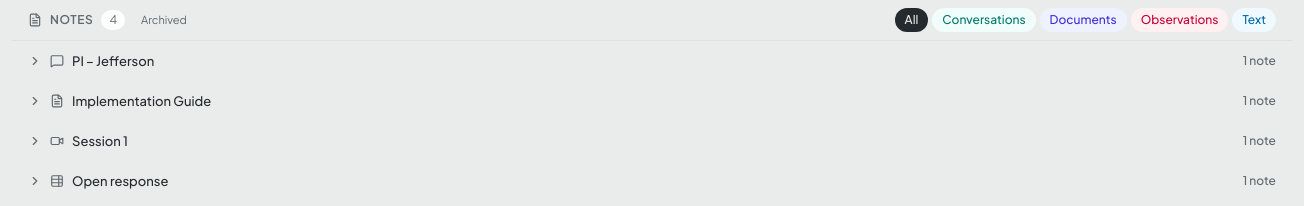
Test: offers an Observations source filter that isolates observation notes
Expected: the button "Session 1 1 note" is shown, left=12, top=121, right=1292, bottom=161
Click the button "Observations".
click(1180, 20)  # box left=1131, top=8, right=1228, bottom=32
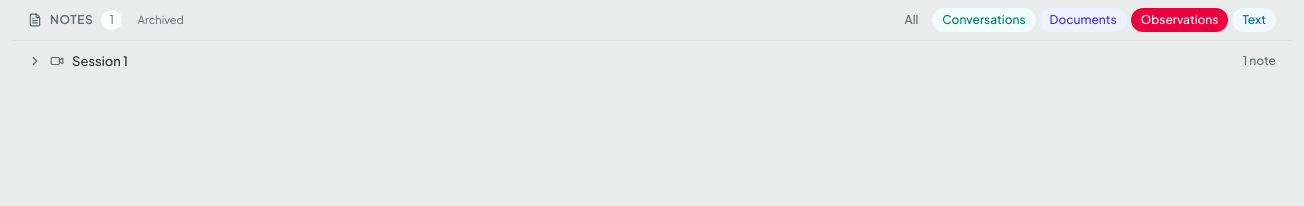
Expected: the button "Session 1 1 note" is shown, left=12, top=41, right=1292, bottom=81
Result: the button "Implementation Guide" is gone
Result: the button "PI – Jefferson" is gone
